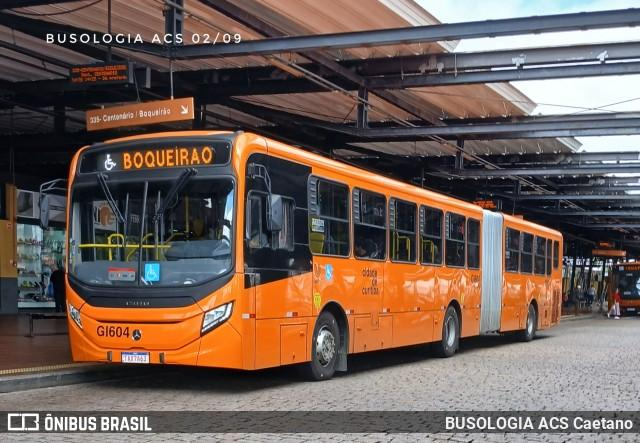BOQUEIRAO: (118, 142, 215, 174)
